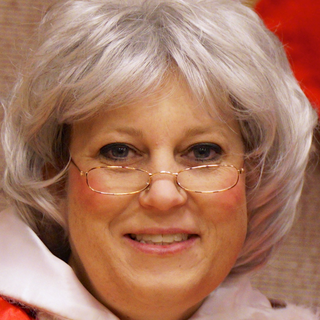eye: (95, 139, 143, 164), (180, 140, 226, 165)
